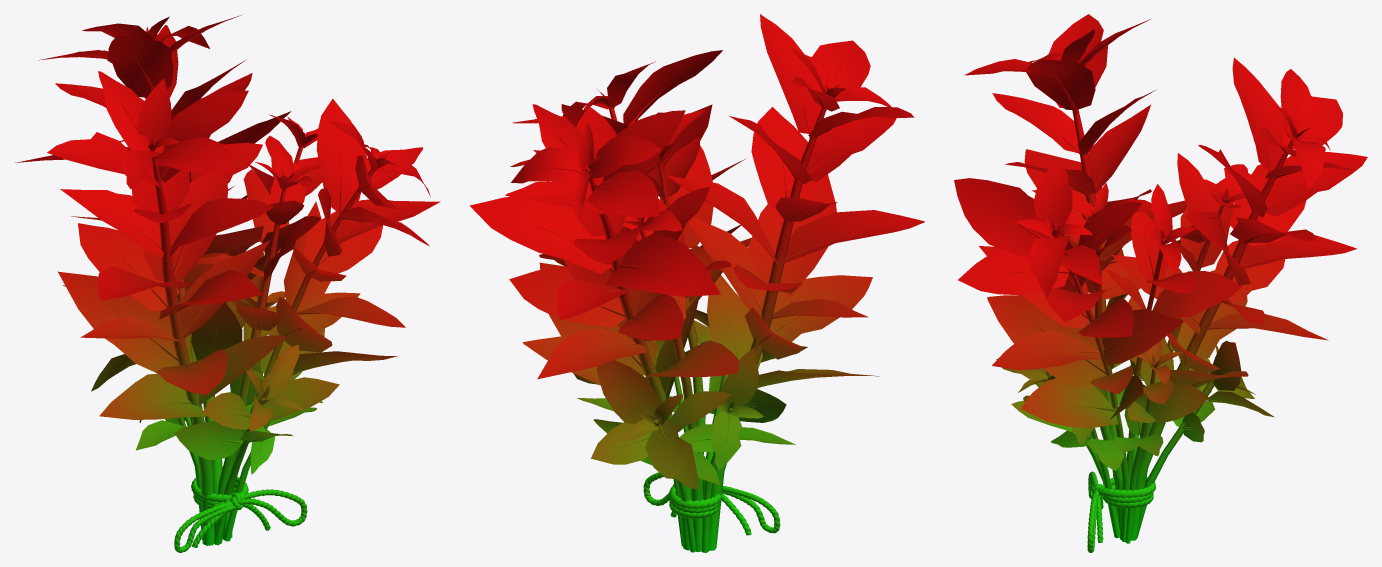
File: Var8_LOD1.fbx
3 views of the same model, side by side, from view 1: azimuth 30°, elevation 25°; view 2: azimuth 150°, elevation 25°; view 3: azimuth 270°, elevation 25° (orthographic). The views are drawn at different scales.
Parts seen in each view (by area): view 1: _bp71_Var8_LOD1; view 2: _bp71_Var8_LOD1; view 3: _bp71_Var8_LOD1.
Boxes of the visible parts, bbox=[...] form: _bp71_Var8_LOD1: bbox=[15, 15, 440, 552]; _bp71_Var8_LOD1: bbox=[469, 14, 924, 552]; _bp71_Var8_LOD1: bbox=[954, 14, 1367, 552].
Size of the model in its own units: 23.42 by 28.73 by 22.68.
